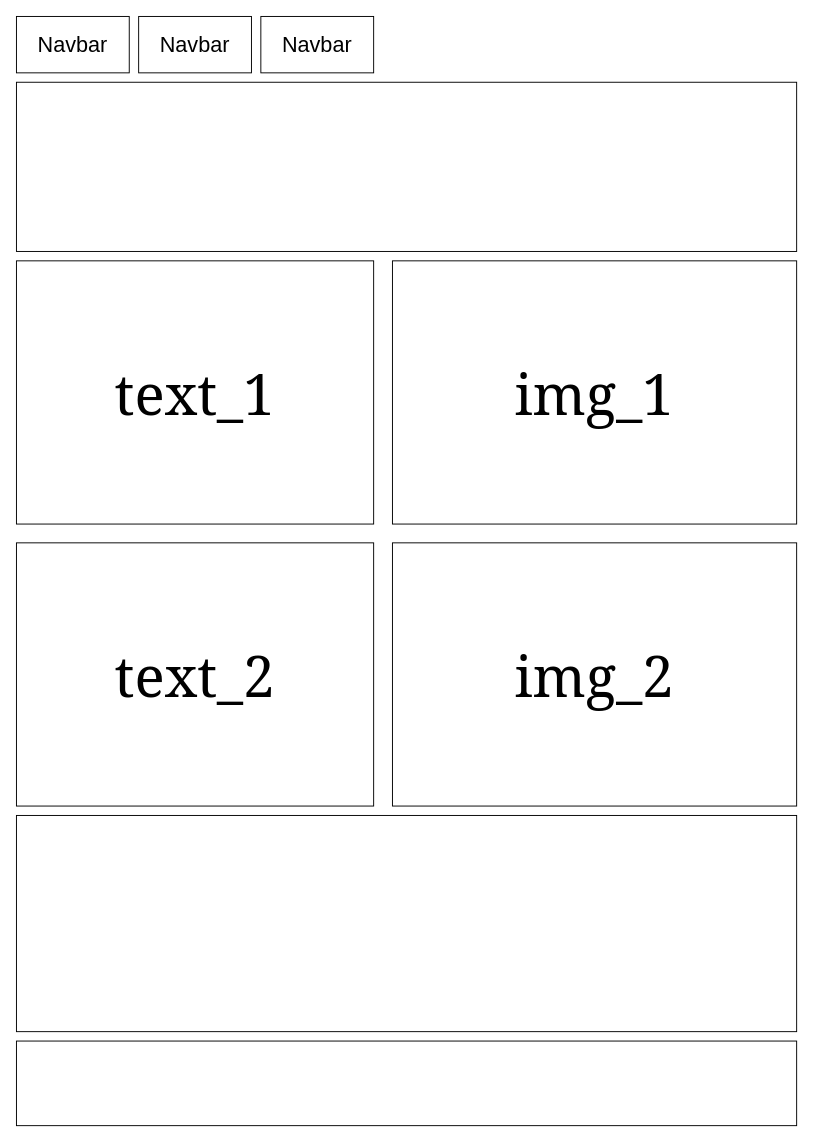
Image size: 813x1142. Some labels were removed from this diagram. Here are the shapes that lost their labels. From the top down, the centre of each, then its label:
At (406,166): "Gender Equality".
At (406,923): "vid_1".
At (406,1083): "footer".
